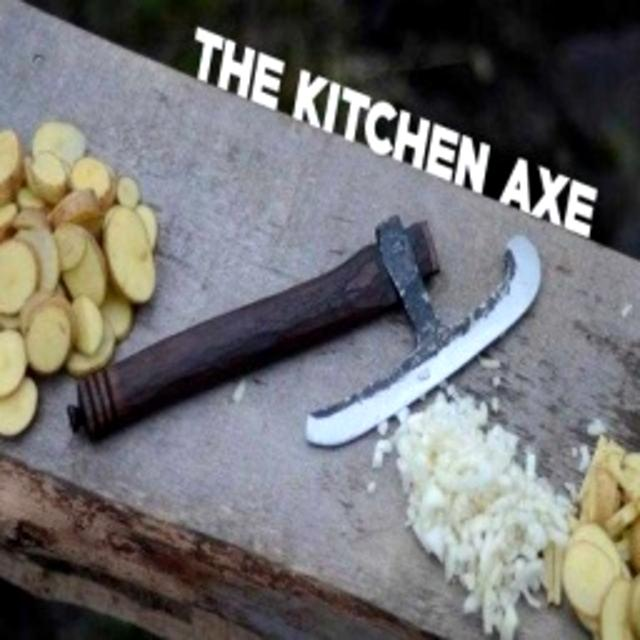ax: (63, 212, 548, 458)
